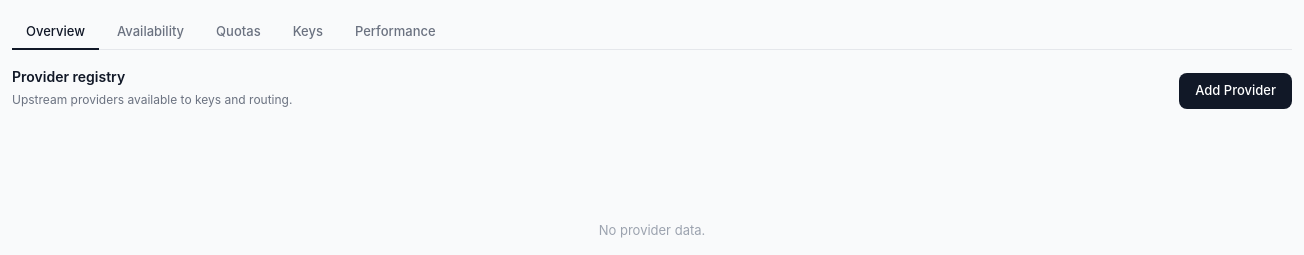
Test: ProvidersTab quotas › uses the source unit slots for a single concurrency result
The width and height of the screenshot is (1304, 255).
Click the tab "Quotas": point(238, 33) x1=202 y1=16 x2=275 y2=50
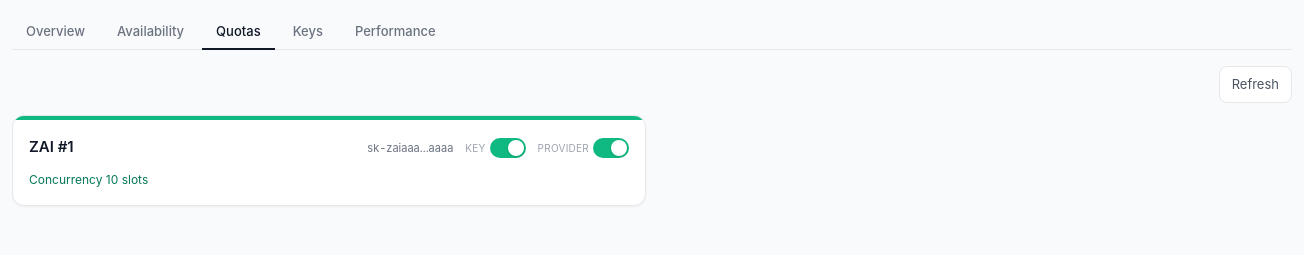
Expected: the heading "ZAI #1" is shown, x1=29 y1=136 x2=74 y2=158
Expected: the text "Concurrency 10 slots" is shown, x1=29 y1=172 x2=148 y2=186
